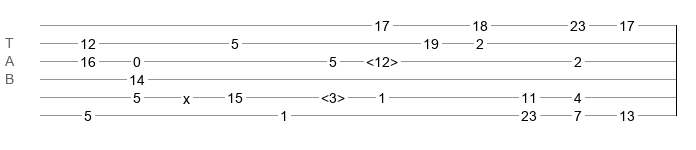0: (133, 54, 141, 64)
1: (280, 108, 288, 118), (378, 90, 386, 100)
11: (521, 90, 537, 100)
12: (80, 36, 96, 46)
13: (619, 108, 635, 118)
14: (129, 72, 145, 82)
15: (227, 90, 243, 100)
16: (80, 54, 96, 64)
17: (374, 18, 390, 28), (619, 18, 635, 28)
18: (472, 18, 488, 28)
19: (423, 36, 439, 46)
2: (476, 36, 484, 46), (574, 54, 582, 64)
23: (521, 108, 537, 118), (570, 18, 586, 28)
4: (574, 90, 582, 100)
5: (84, 108, 92, 118), (133, 90, 141, 100), (231, 36, 239, 46), (329, 54, 337, 64)
7: (574, 108, 582, 118)
harmonic: (366, 54, 398, 64), (321, 90, 345, 100)
x: (183, 91, 190, 99)
